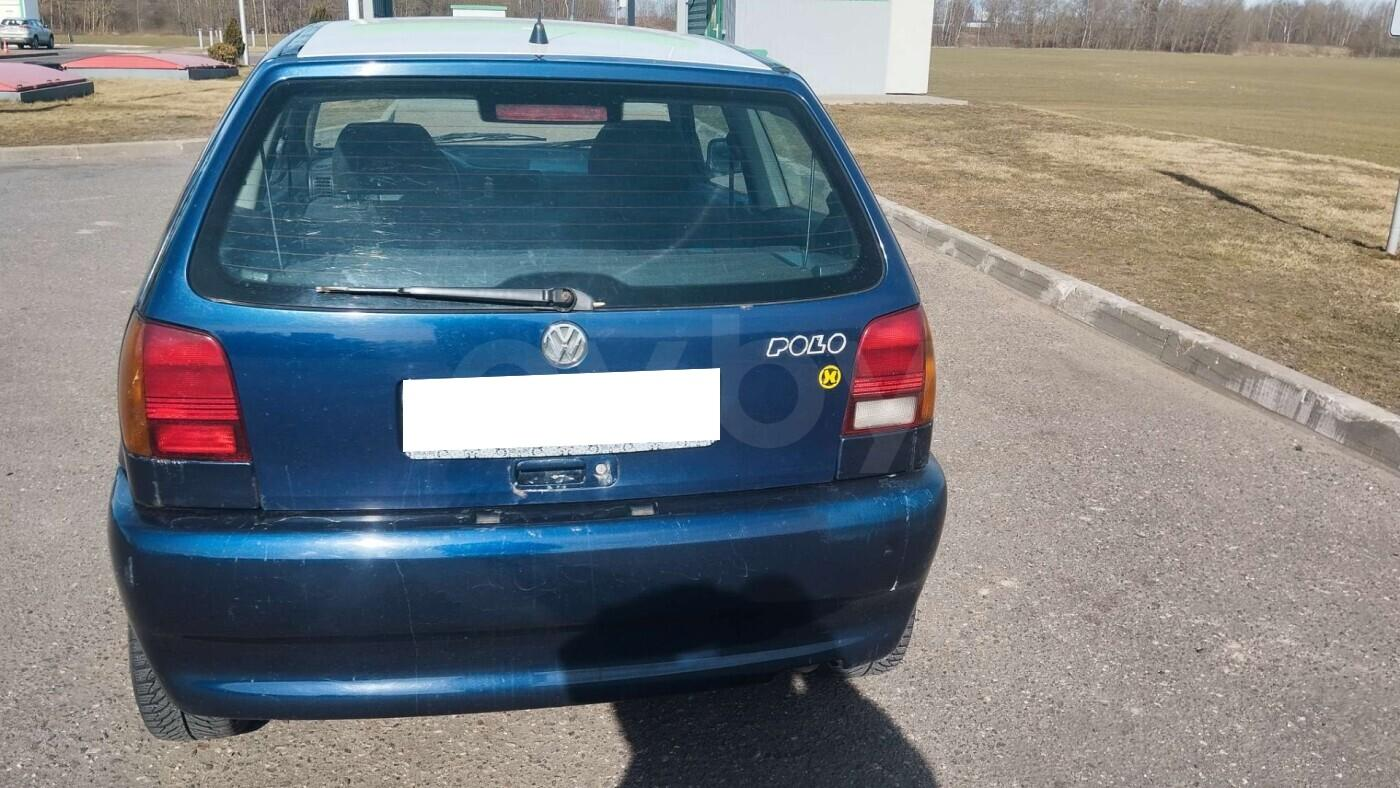Polo_1994-2002: (113, 13, 943, 754)
